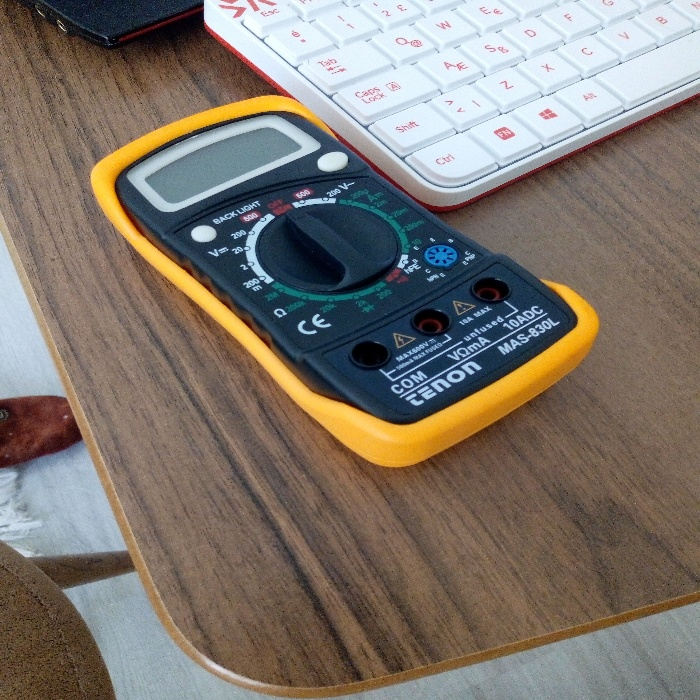multimetre: (97, 64, 614, 454)
